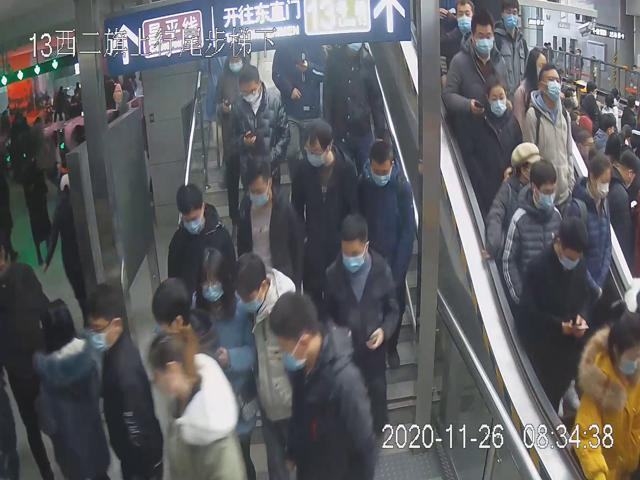person: (264, 284, 374, 480), (322, 210, 400, 450), (230, 248, 305, 480), (185, 250, 258, 480), (358, 141, 416, 372), (290, 116, 358, 296), (236, 155, 305, 296), (163, 183, 237, 312), (445, 8, 509, 141), (520, 65, 575, 212), (226, 65, 287, 196), (466, 74, 523, 209)
